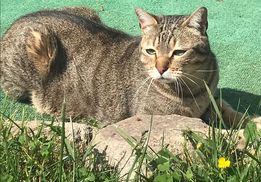cat: (1, 5, 243, 127)
